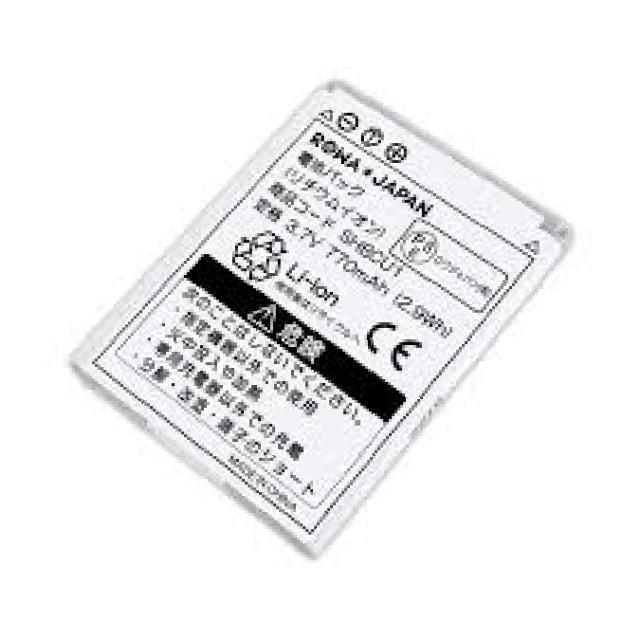Battery: (56, 60, 600, 590)
